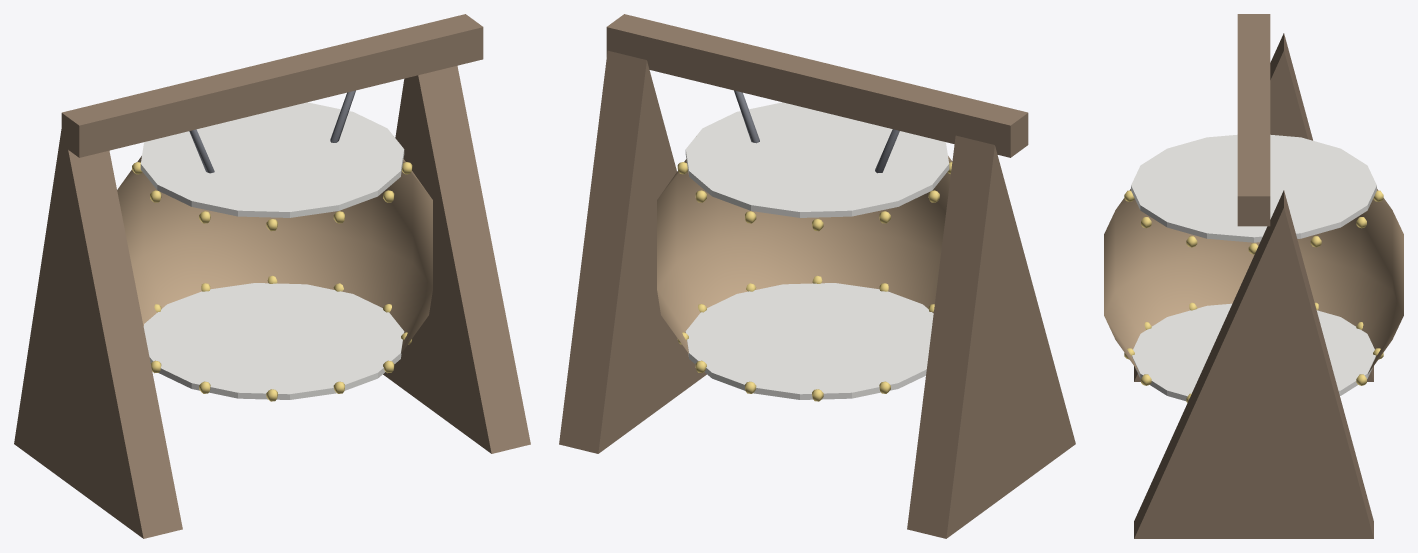
Rendered from martial-arts-dojo-and-fight-stages-floor-drum-2cd04d1d__18065.glb.
3 views of the same model, side by side, from view 1: azimuth 30°, elevation 25°; view 2: azimuth 150°, elevation 25°; view 3: azimuth 270°, elevation 25° (orthographic). The views are drawn at different scales.
Parts seen in each view (by area): view 1: floor-drum; view 2: floor-drum; view 3: floor-drum.
Part boxes in pixels (x1=…): floor-drum: x1=14, y1=14, x2=530, y2=538; floor-drum: x1=559, y1=14, x2=1075, y2=538; floor-drum: x1=1104, y1=14, x2=1403, y2=538.
Bounding box in the file's own units: 1.44 × 1.27 × 1.
